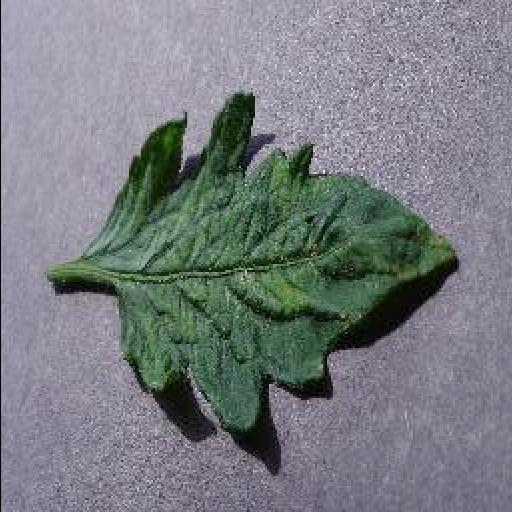Mosaic Virus: (82, 90, 466, 434)
